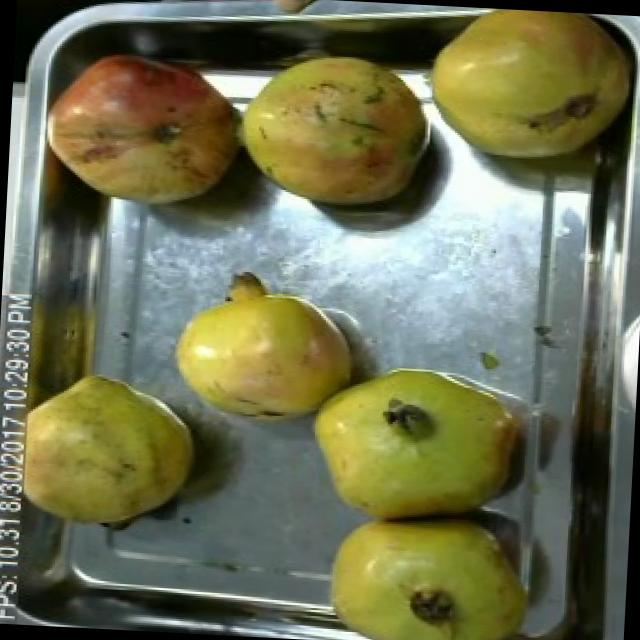fruit: (292, 351, 534, 533), (29, 37, 254, 222), (412, 5, 640, 182), (156, 254, 372, 436), (226, 43, 448, 218), (0, 362, 208, 542), (306, 496, 551, 640)
